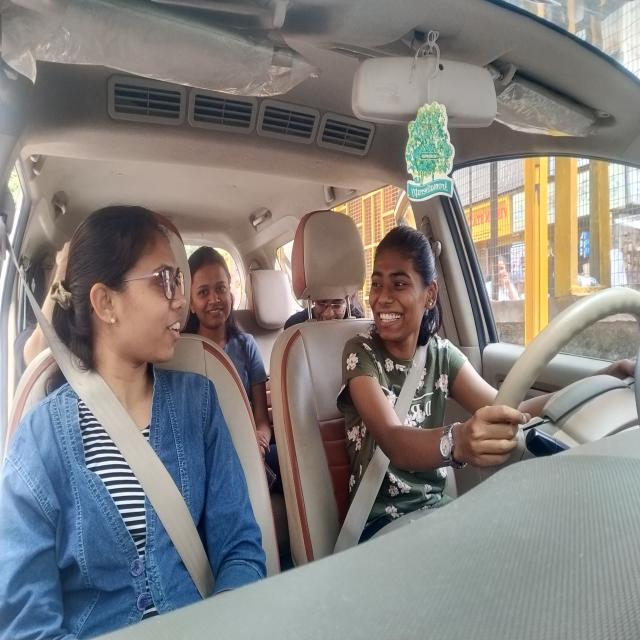LeftRight: (368, 227, 436, 345)
person: (68, 206, 185, 370), (189, 248, 238, 330), (312, 294, 352, 328)
talking: (162, 315, 185, 342), (378, 312, 404, 328)
